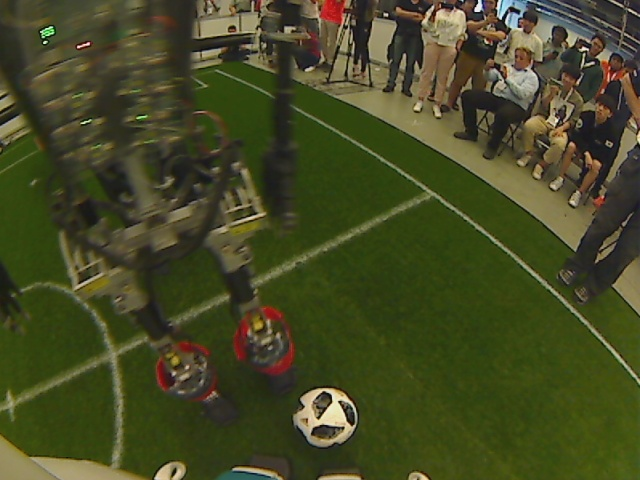ball: (291, 385, 358, 449)
